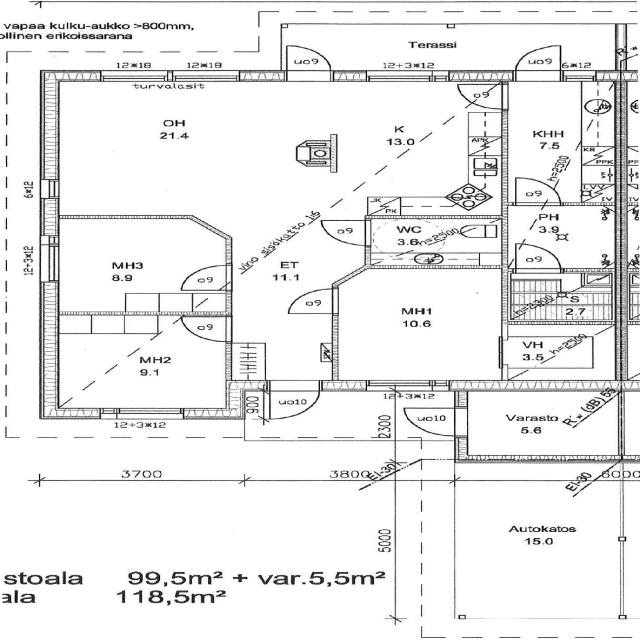door: (265, 383, 321, 421), (400, 406, 460, 438), (176, 262, 232, 293), (456, 80, 508, 112), (510, 242, 565, 272), (284, 285, 338, 315), (179, 314, 232, 343), (512, 44, 566, 72), (512, 175, 561, 205), (319, 219, 368, 246), (284, 44, 331, 70)
window: (36, 238, 65, 285), (364, 70, 441, 85), (98, 70, 173, 84), (170, 70, 244, 84), (362, 379, 444, 391), (116, 406, 186, 420), (38, 178, 64, 203)
zone: (51, 76, 516, 218), (332, 266, 506, 383), (49, 314, 232, 413), (46, 217, 225, 313), (503, 77, 626, 204), (456, 389, 617, 462), (499, 322, 622, 386), (508, 203, 620, 272), (367, 216, 504, 266), (508, 270, 617, 322), (179, 314, 231, 342)
